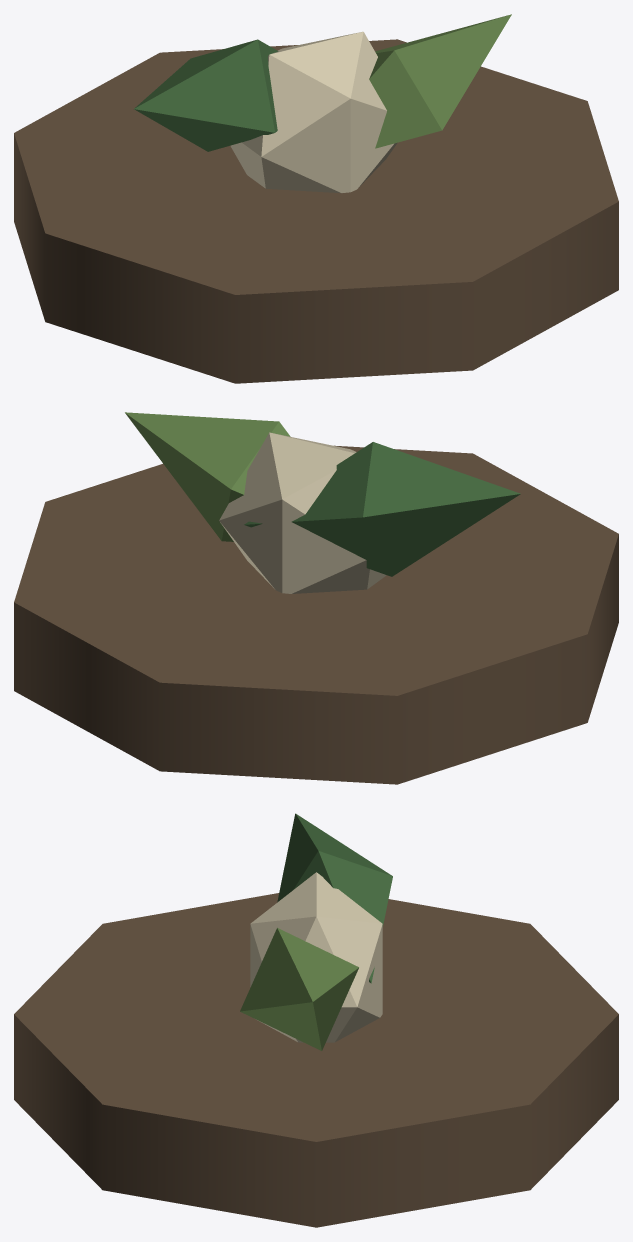
The model's file is plant-moonflower-0.glb.
3 views of the same model, one above another, from view 1: azimuth 30°, elevation 25°; view 2: azimuth 150°, elevation 25°; view 3: azimuth 270°, elevation 25° (orthographic). The views are drawn at different scales.
Parts seen in each view (by area): view 1: plant-moonflower-0-visual; view 2: plant-moonflower-0-visual; view 3: plant-moonflower-0-visual.
Part boxes in pixels (x1=…): plant-moonflower-0-visual: x1=14, y1=14, x2=618, y2=383; plant-moonflower-0-visual: x1=14, y1=412, x2=618, y2=784; plant-moonflower-0-visual: x1=14, y1=813, x2=618, y2=1227.
Bounding box in the file's own units: 0.32 × 0.1296 × 0.32.
